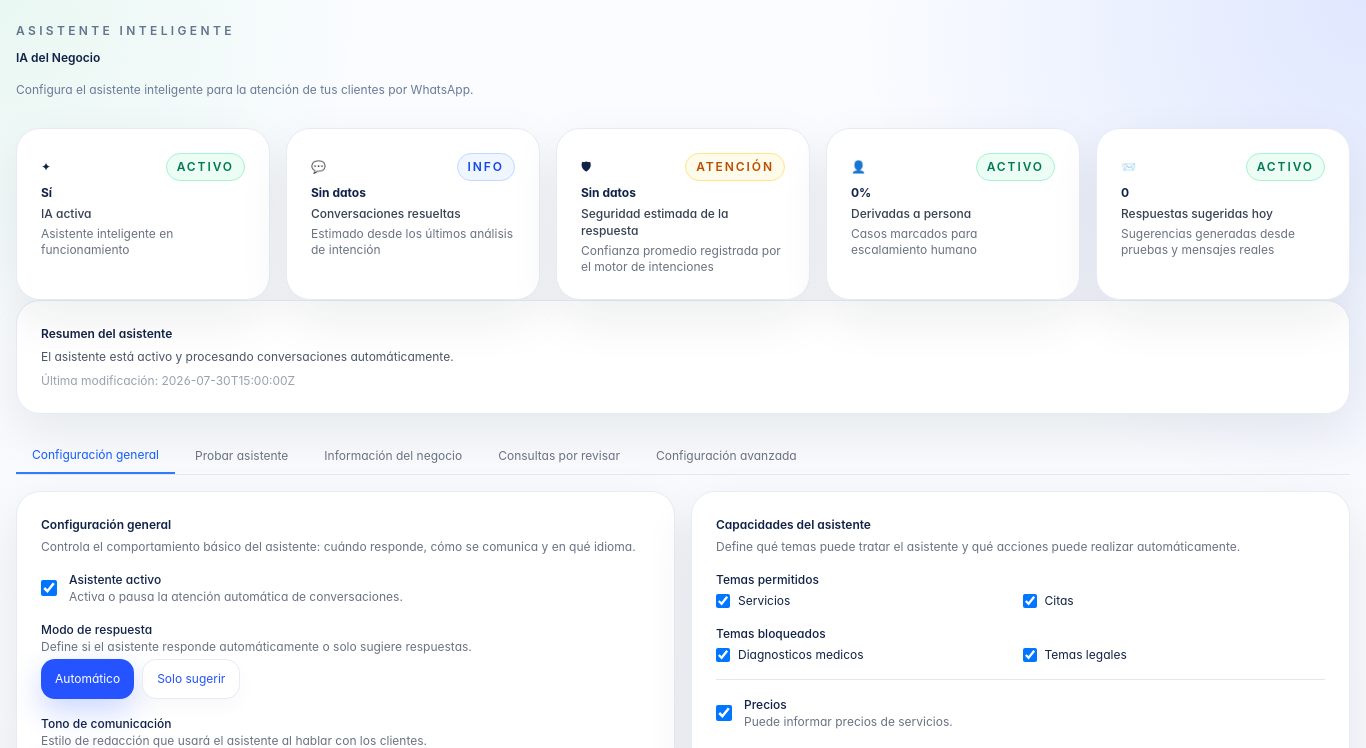
Test: BusinessAiPage › shows human handoff when requiresHuman is true
Click the button "Probar asistente" at coordinates (242, 456), box [179,438,304,474]
(page scrolled)
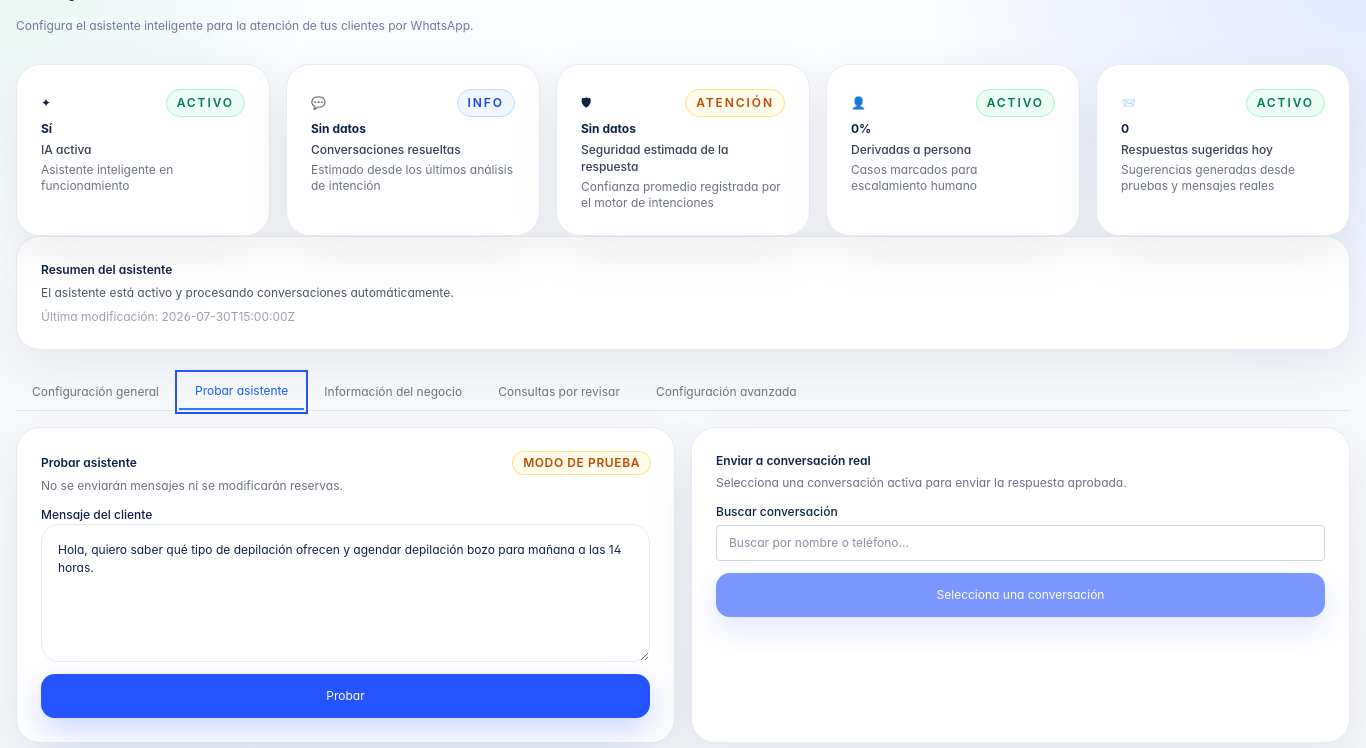
Click the button "Probar" at coordinates (346, 696), box [41,674,650,718]
(page scrolled)
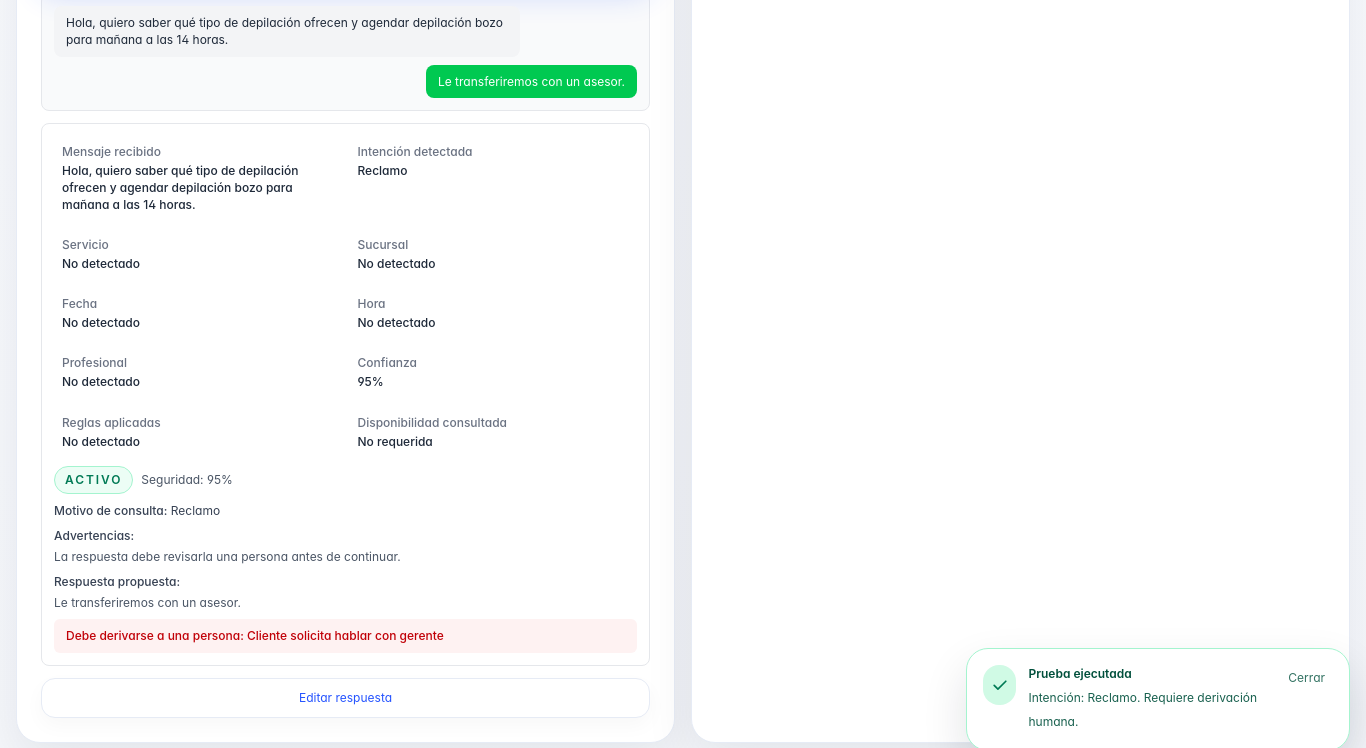
Check: the text "Debe derivarse" is shown, box [66,628,444,643]
